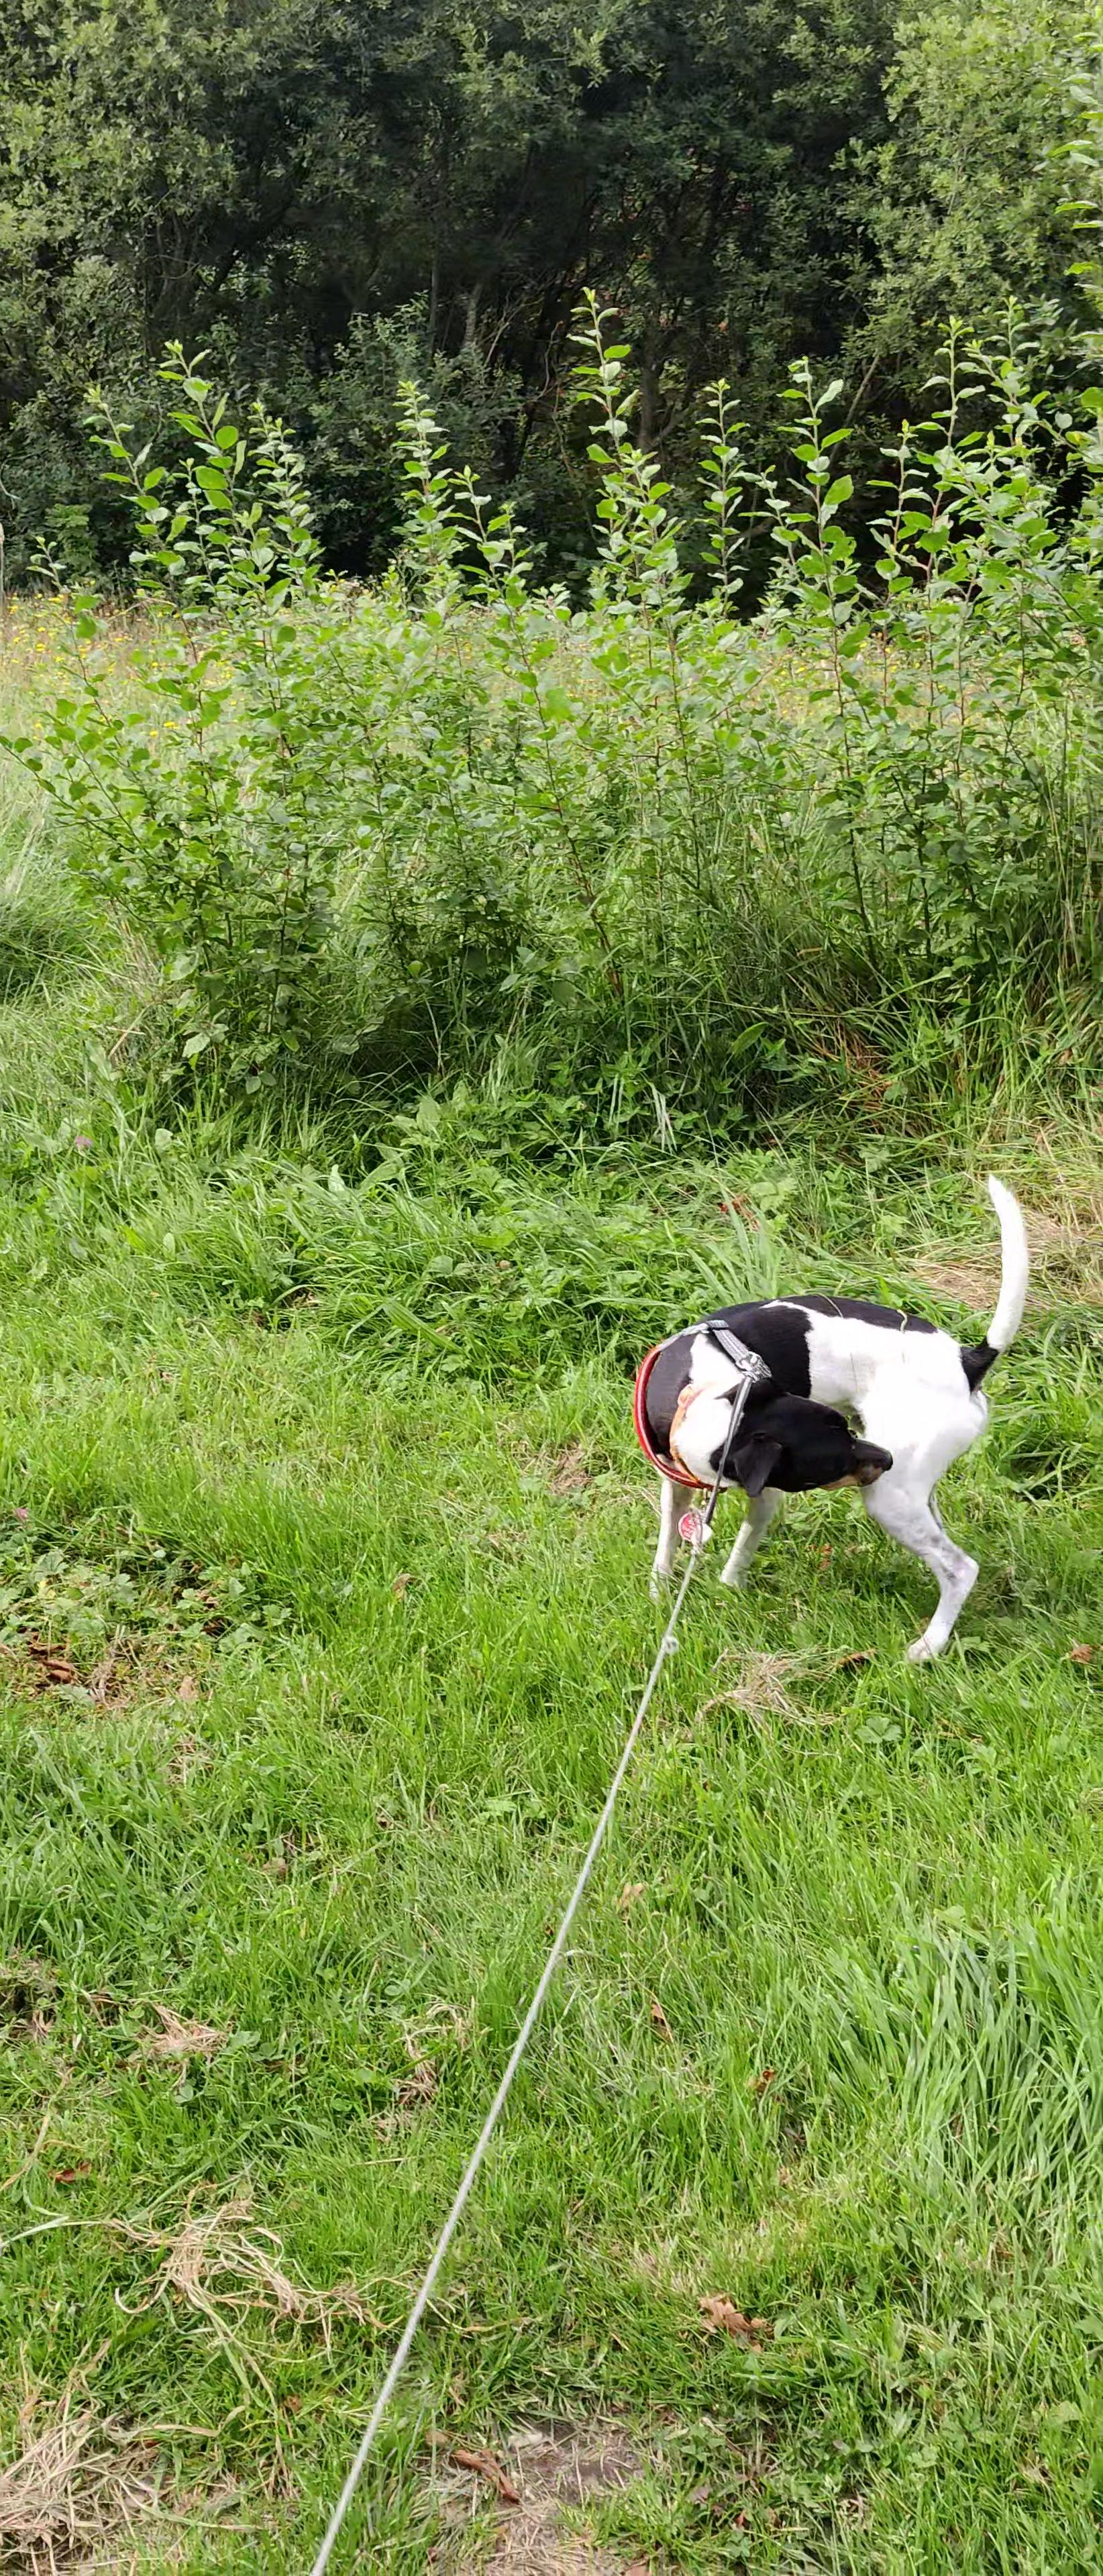Dog: (615, 1157, 1045, 1687)
